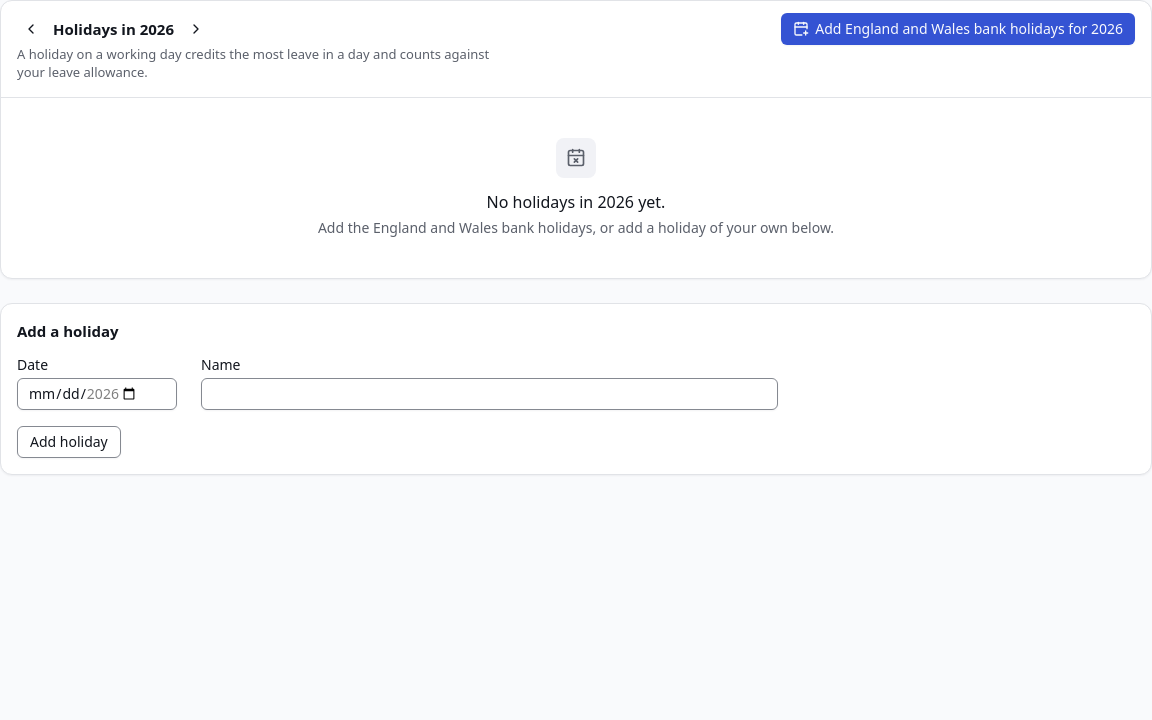
Test case: HolidaysTab › asks for the shown year only, and imports its bank holidays
Expected: the text "No holidays in 2026 yet." is shown, [487,191,665,213]
Click the button "Add England and Wales bank holidays for 2026" at {"x": 958, "y": 29}, box [781,13,1135,45]
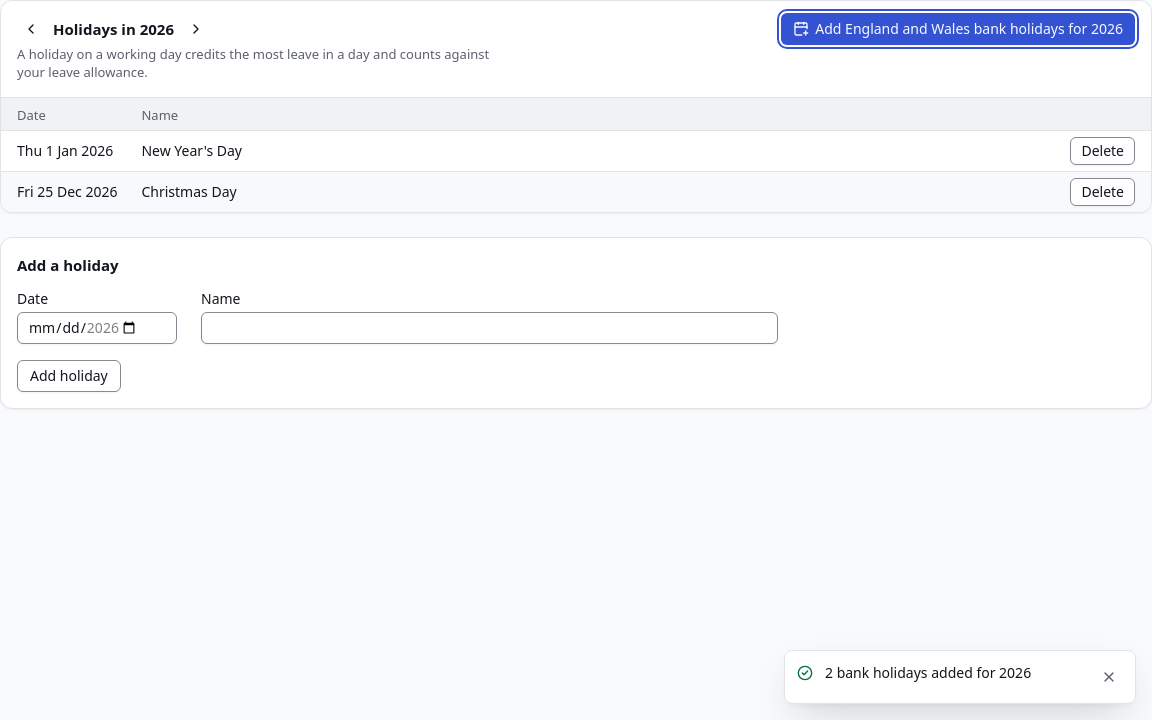
Result: the text "2 bank holidays added for 2026" is shown at [825,663,1031,682]
Result: the cell "Christmas Day" is shown at [130,171,1058,212]
